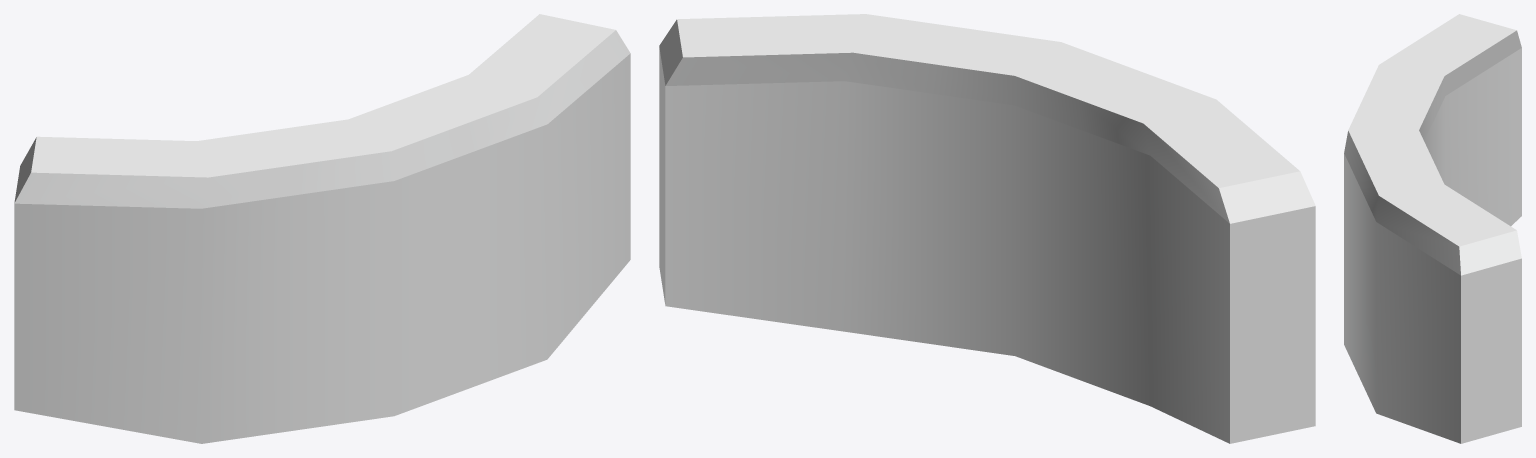
Rendered from Leg_Prop_Cooking_Apron_Bib_01.fbx.
3 renders of one model, left to right at view 1: azimuth 30°, elevation 25°; view 2: azimuth 150°, elevation 25°; view 3: azimuth 270°, elevation 25°, orthographic. The views are drawn at different scales.
Parts seen in each view (by area): view 1: Leg_Prop_Cooking_Apron_Bib_01; view 2: Leg_Prop_Cooking_Apron_Bib_01; view 3: Leg_Prop_Cooking_Apron_Bib_01.
Part boxes in pixels (x1,y1,x2,y2): Leg_Prop_Cooking_Apron_Bib_01: (14, 14, 630, 443); Leg_Prop_Cooking_Apron_Bib_01: (659, 14, 1315, 443); Leg_Prop_Cooking_Apron_Bib_01: (1344, 14, 1521, 443).
Size of the model in its own units: 78.47 by 32.02 by 24.07.
